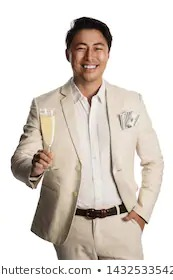F_M_suit jacket: (9, 74, 167, 248)
